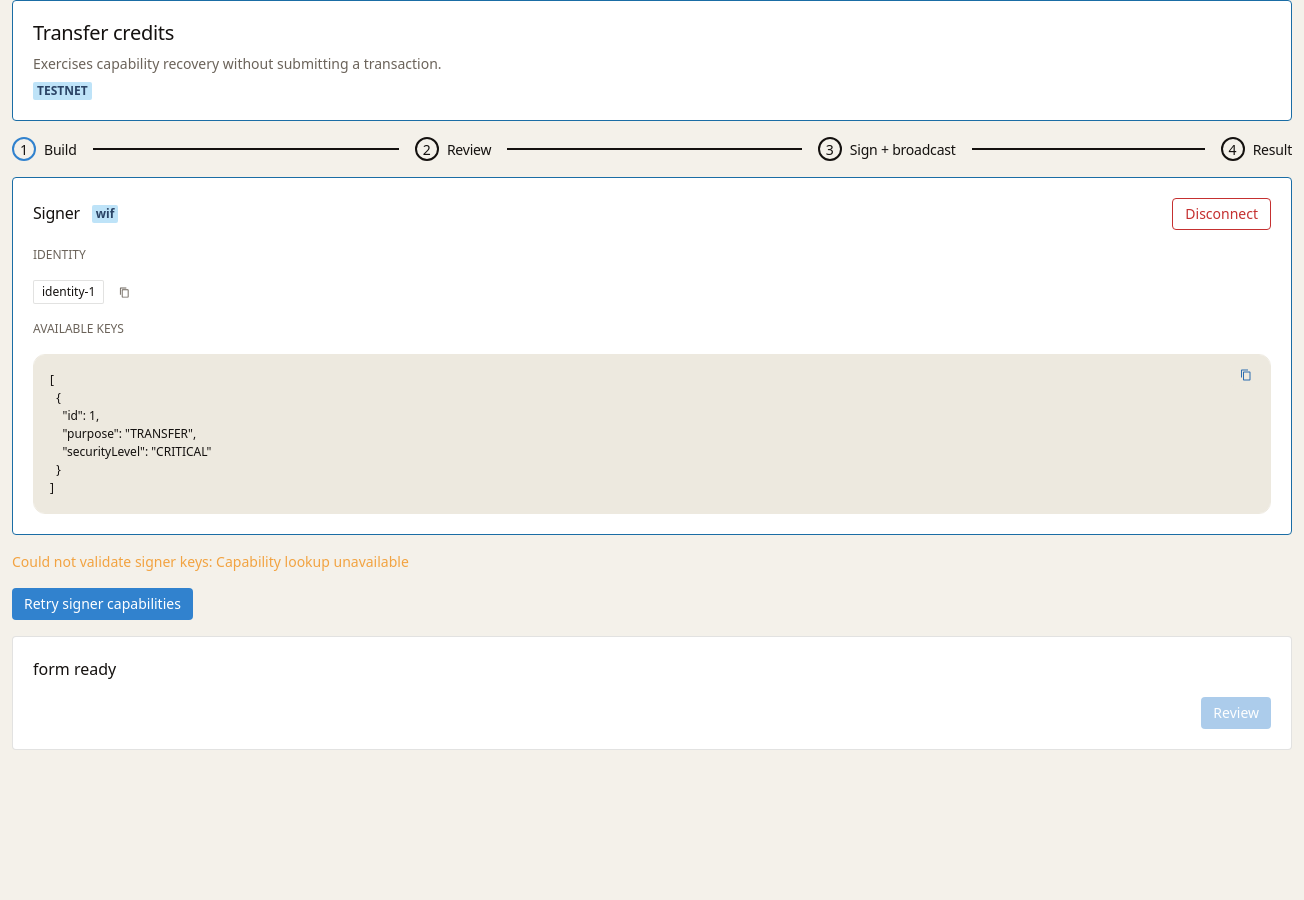
signer capability recovery › provides recovery when only the shell capability check fails
Expected: the text "Could not validate signer keys: Capability lookup unavailable" is shown, [12,552,409,571]
Expected: the button "Review" is disabled, [1201,697,1271,729]
Click the button "Retry signer capabilities": point(102, 604) [12,588,193,620]
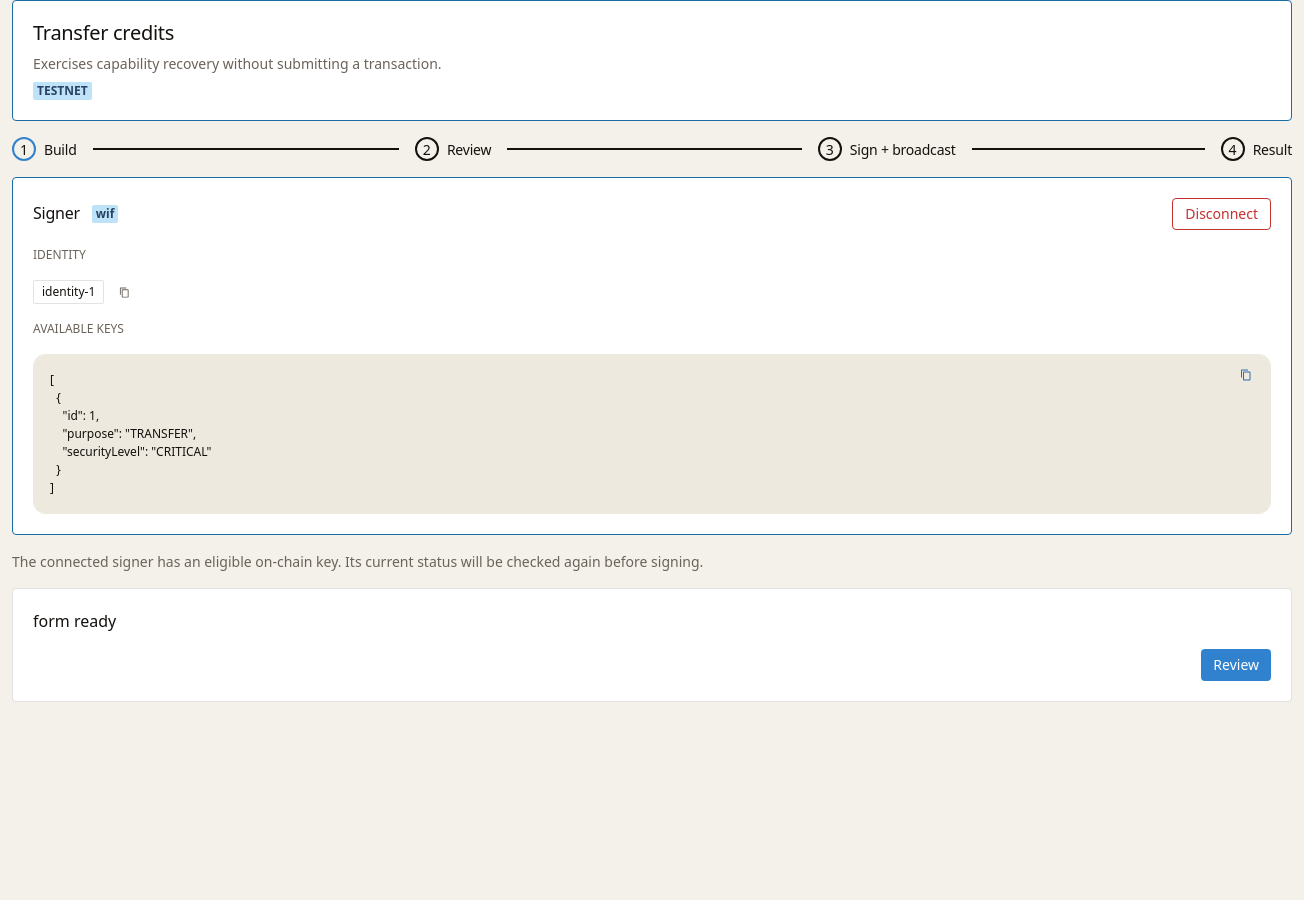
Result: the button "Review" is enabled at [1201,649,1271,681]
Result: the button "Retry signer capabilities" is gone
